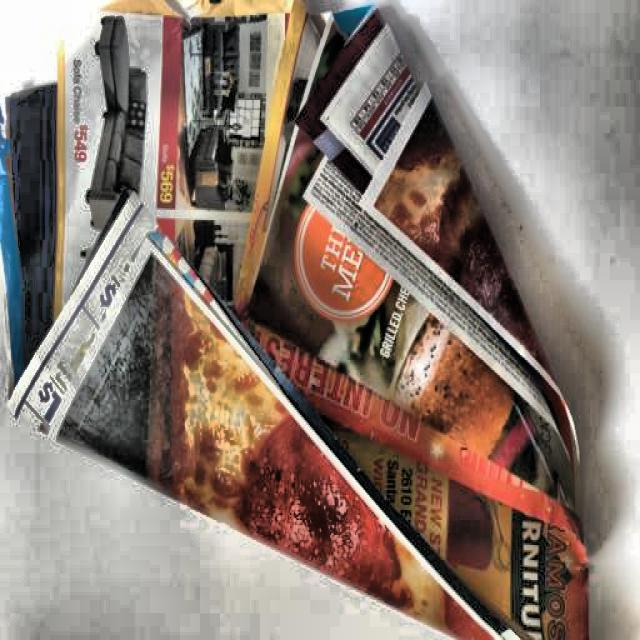paper: (3, 6, 600, 640)
